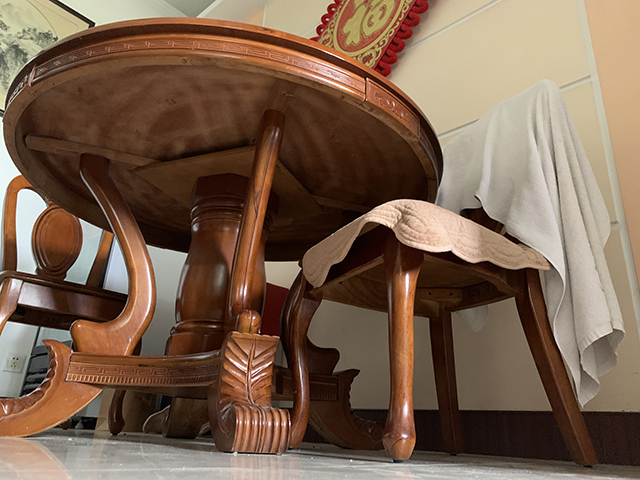stool: (277, 79, 629, 469), (1, 174, 144, 438)
table: (1, 16, 446, 455)
